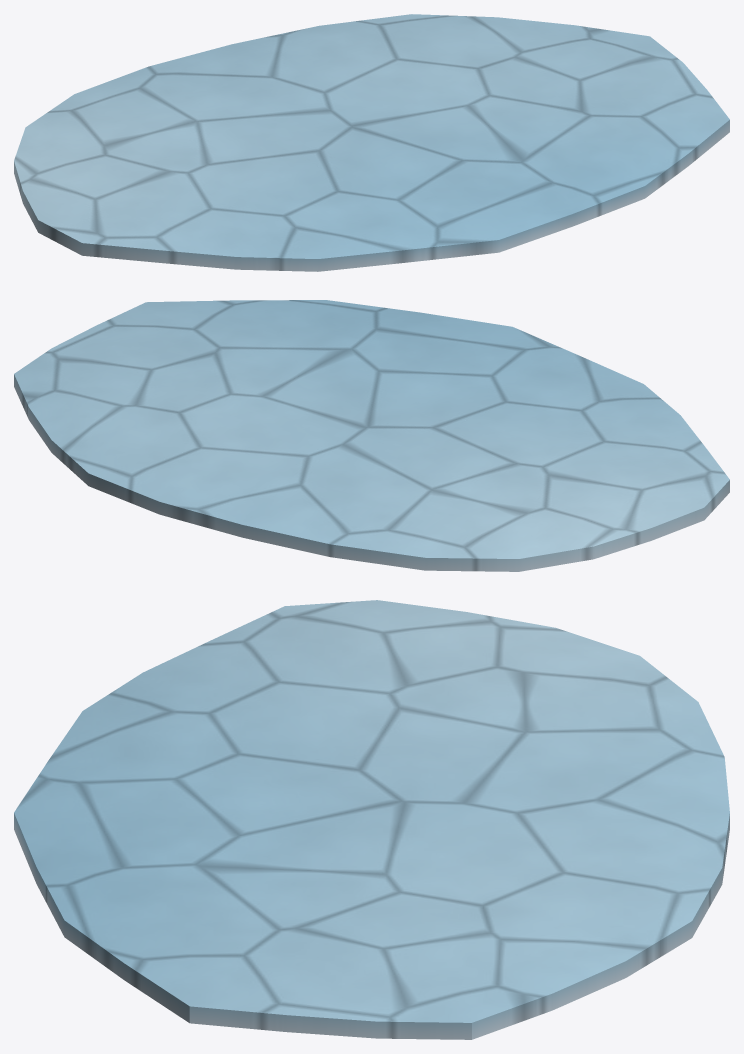
Rendered from fm_ice_patch_b.glb.
3 views of the same model, one above another, from view 1: azimuth 30°, elevation 25°; view 2: azimuth 150°, elevation 25°; view 3: azimuth 270°, elevation 25° (orthographic). The views are drawn at different scales.
Visible parts, largest first — view 1: fm_ice_patch_b; view 2: fm_ice_patch_b; view 3: fm_ice_patch_b.
Part boxes in pixels (x1,y1,x2,y2): fm_ice_patch_b: (14,14,729,271); fm_ice_patch_b: (14,300,729,571); fm_ice_patch_b: (14,600,729,1039).
Bounding box in the file's own units: 1.2 × 0.036 × 0.8598.
Materials: 1 (1 with a texture image).
